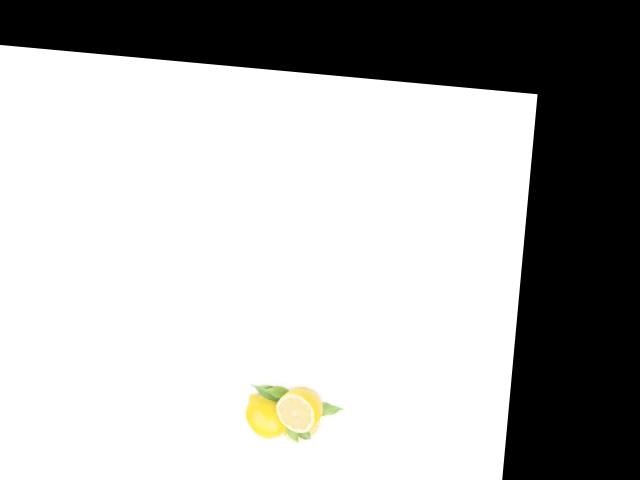lemon: (273, 381, 328, 435)
